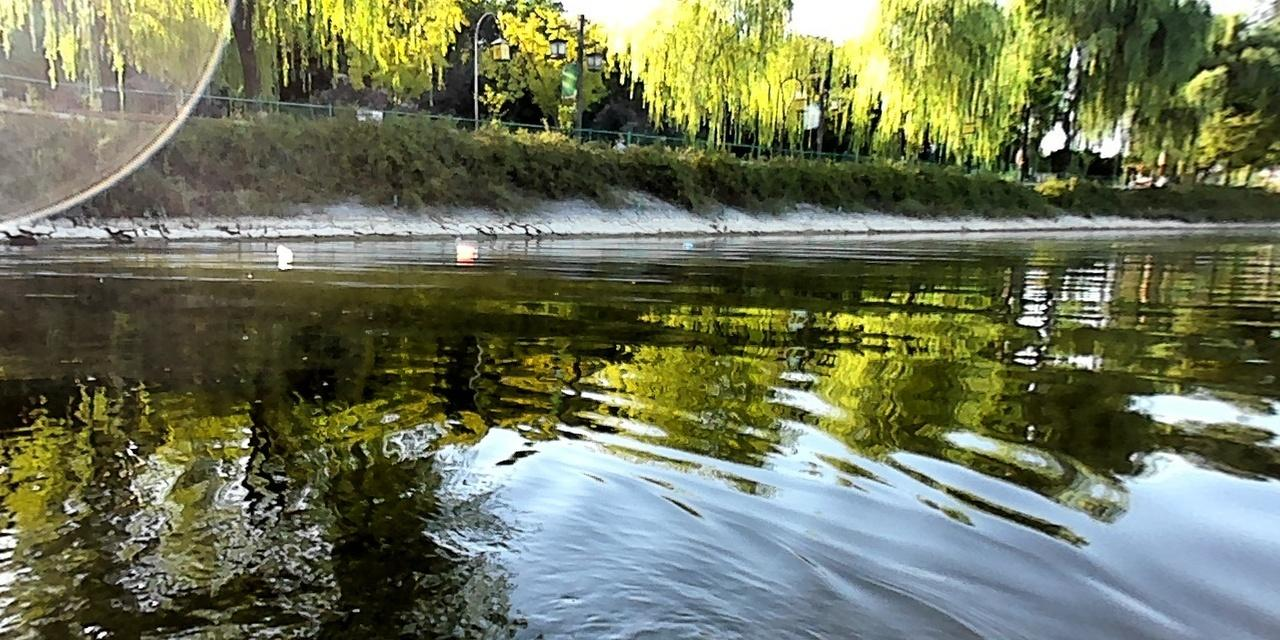bottle: (450, 240, 480, 253)
